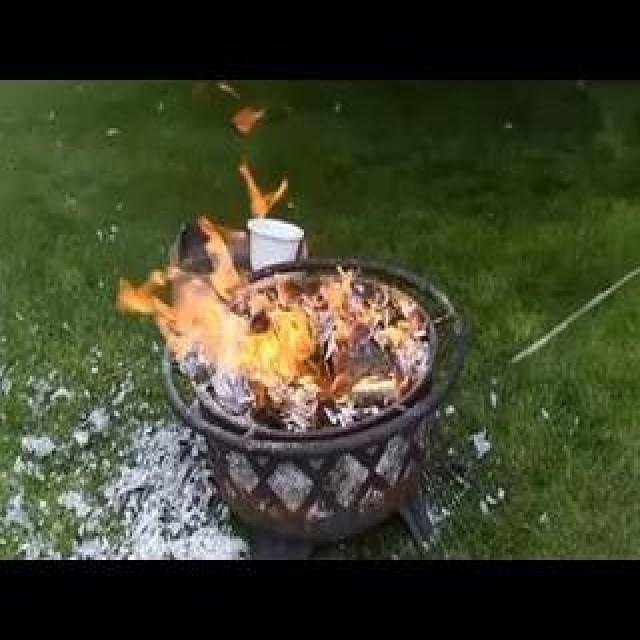Fire: (272, 256, 288, 320)
